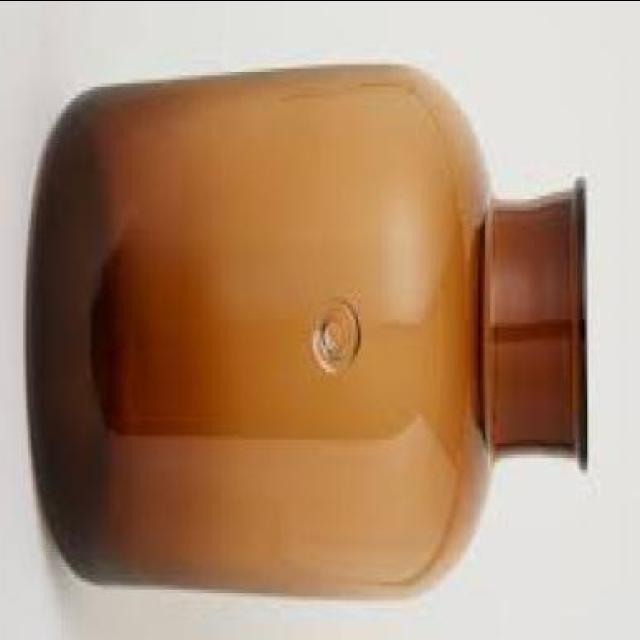kaca: (27, 56, 590, 598)
